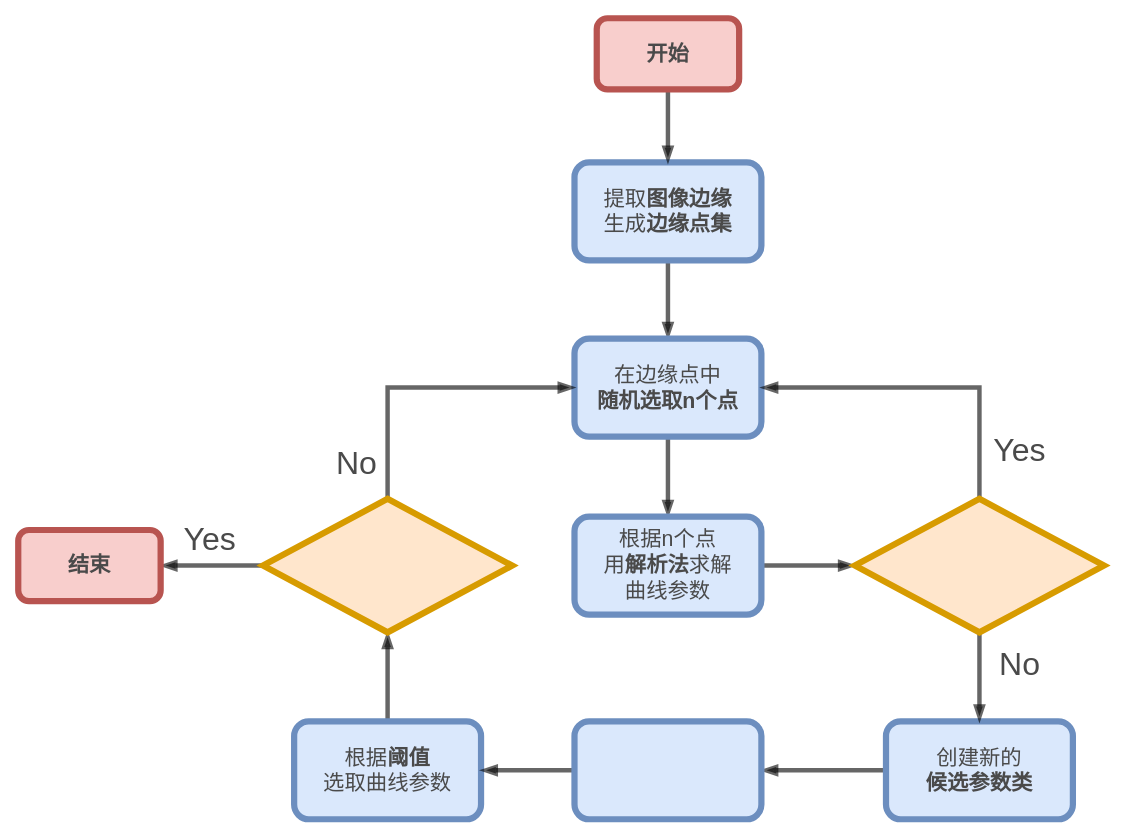
Some shapes in this 1122 by 837 pixel diagram are drawn without their labels. The box of each missing label's shape, as (x1, y1, x2, y2) in pixels:
参数 是否越界 ？: (851, 495, 1107, 635)
在累加器中 统计和更新参数: (571, 718, 764, 822)
达到 最大 迭代 次数？: (259, 495, 515, 635)
